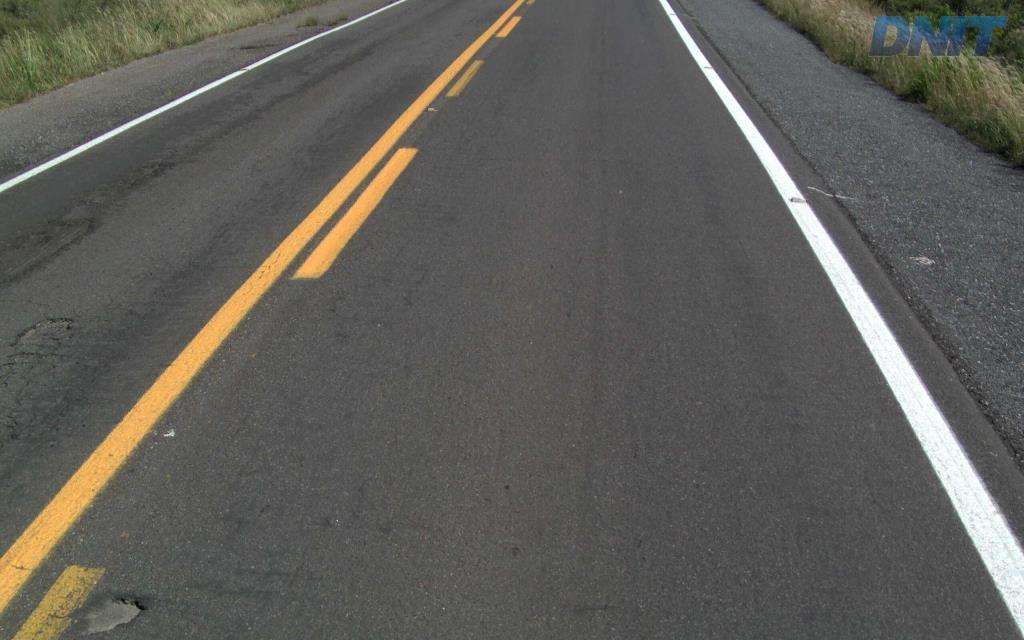pothole: (75, 590, 156, 637)
